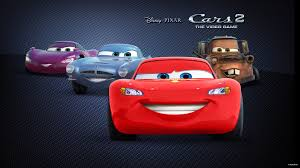mcqueen: (106, 55, 245, 141)
